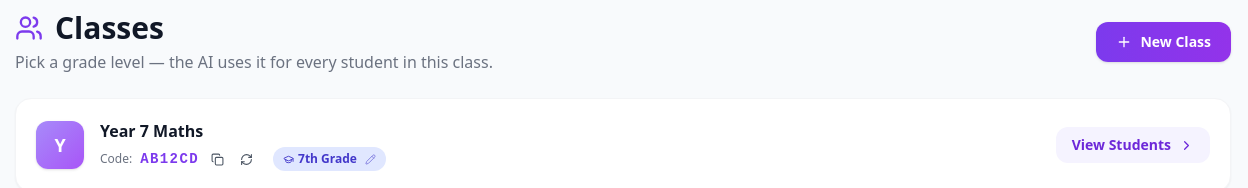
replacing a class code › asks first, then shows the new code in place of the old one
Click the button named "Replace the class code". click: click(246, 159)
box: [236,148,257,170]
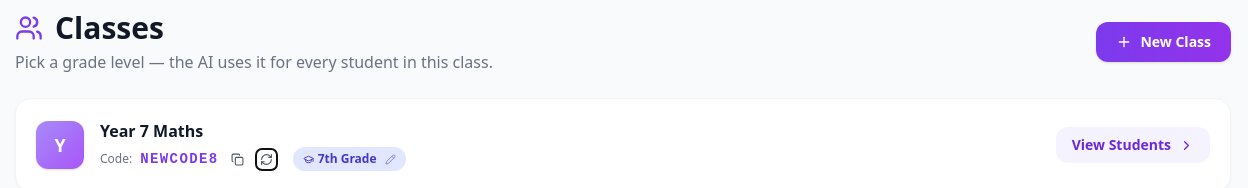
Expected: the text "NEWCODE8" is shown, [140,149,219,169]
Expected: the text "AB12CD" is gone
